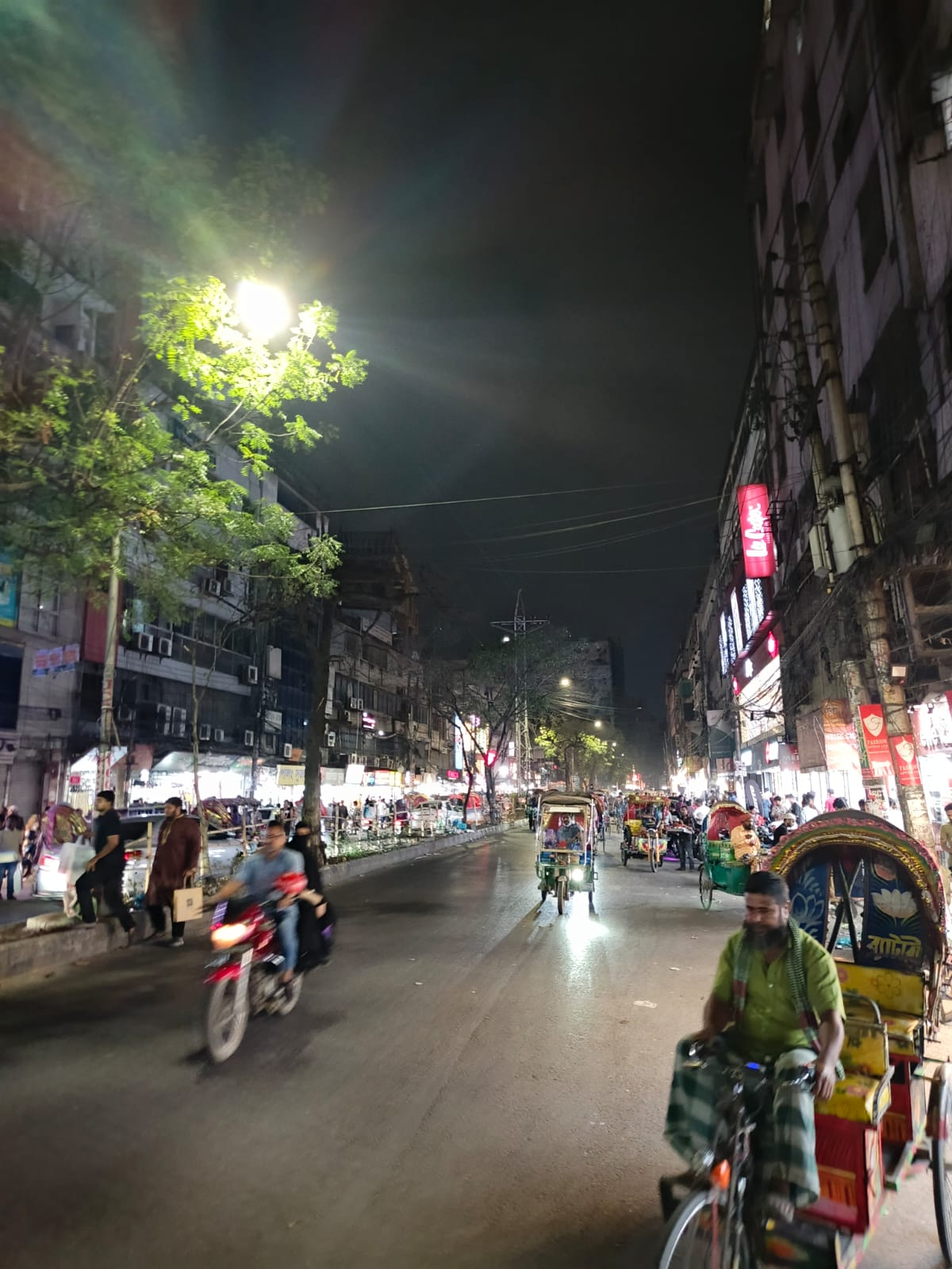Bikes: (185, 799, 364, 1088)
auto-ricksaw: (632, 817, 952, 1269), (473, 762, 660, 950), (669, 778, 808, 925), (36, 788, 110, 903)
private car: (58, 730, 290, 934), (404, 791, 495, 850)
